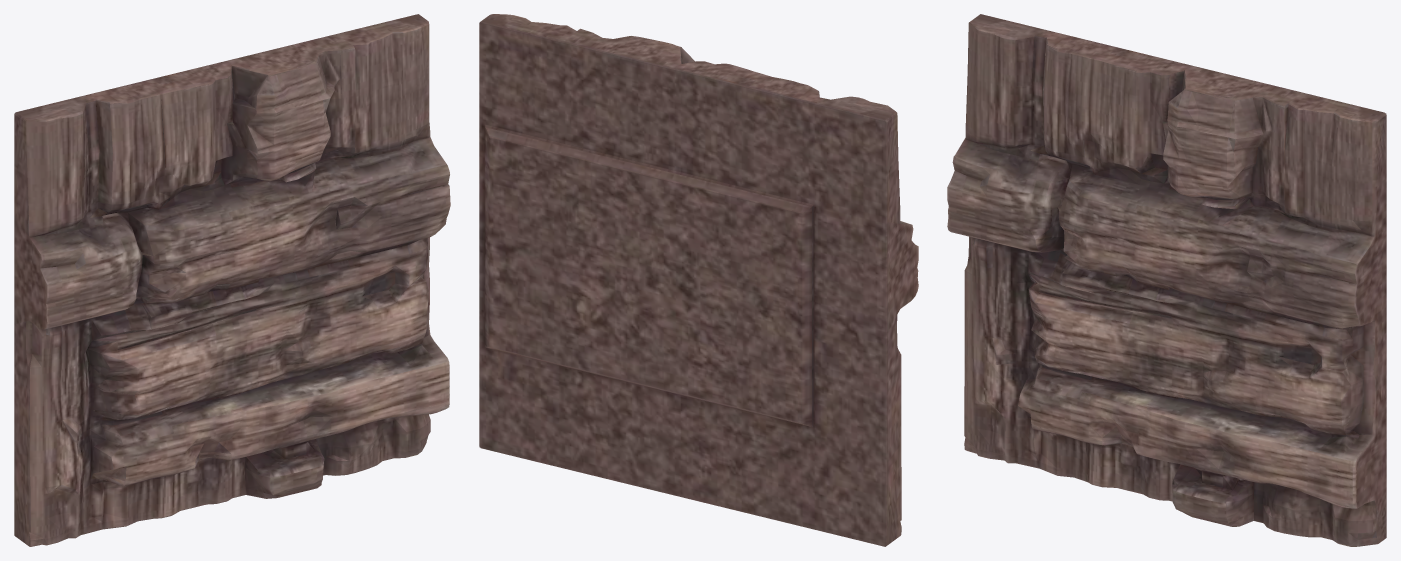
The model's file is wall_planks_wood.glb.
3 views of the same model, side by side, from view 1: azimuth 30°, elevation 25°; view 2: azimuth 150°, elevation 25°; view 3: azimuth 330°, elevation 25° (orthographic).
Size of the model in its own units: 1.91 by 1.91 by 0.3131.
Materials: 1 (1 with a texture image).
